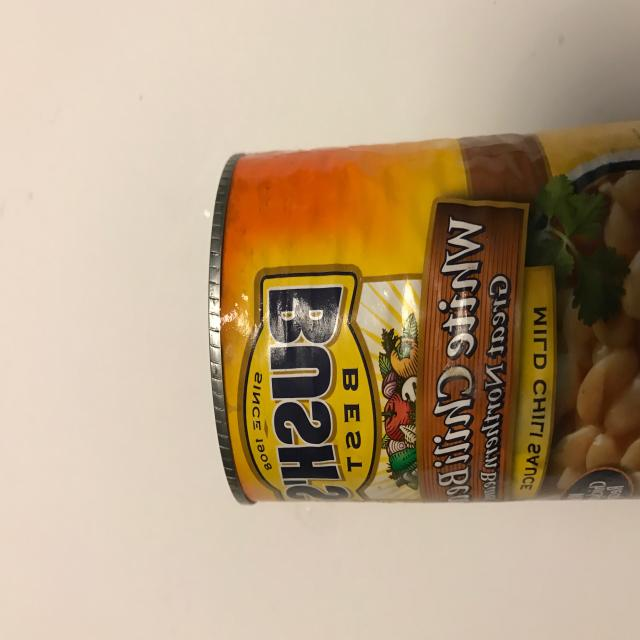metal: (207, 118, 640, 505)
